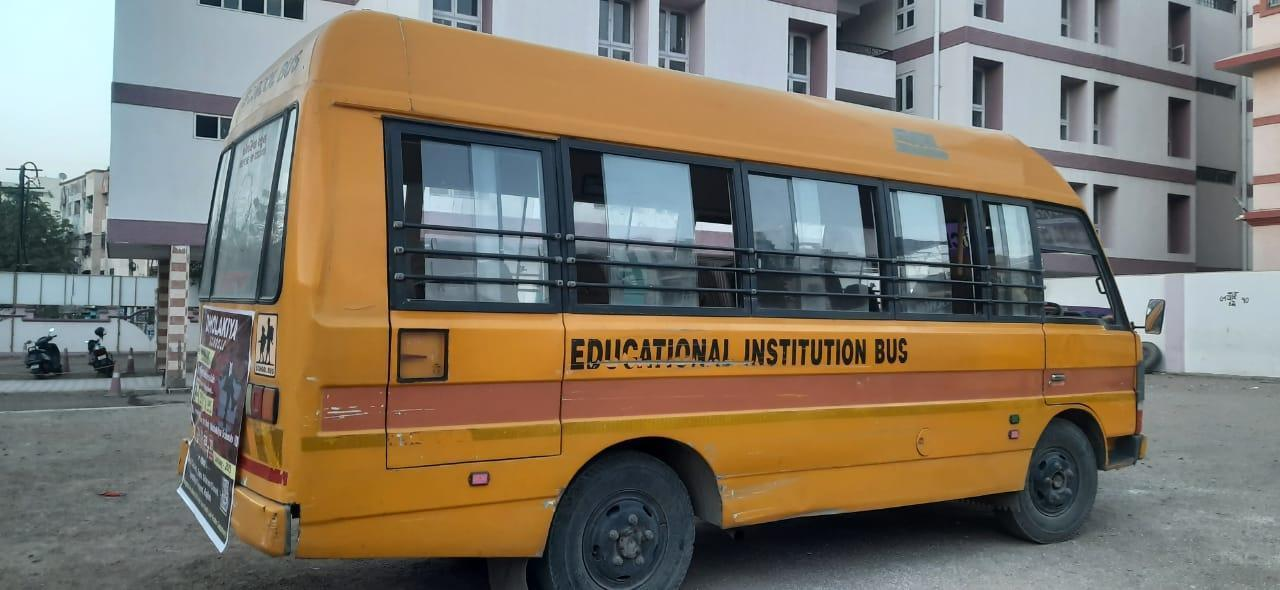Bus: (167, 8, 1172, 573)
